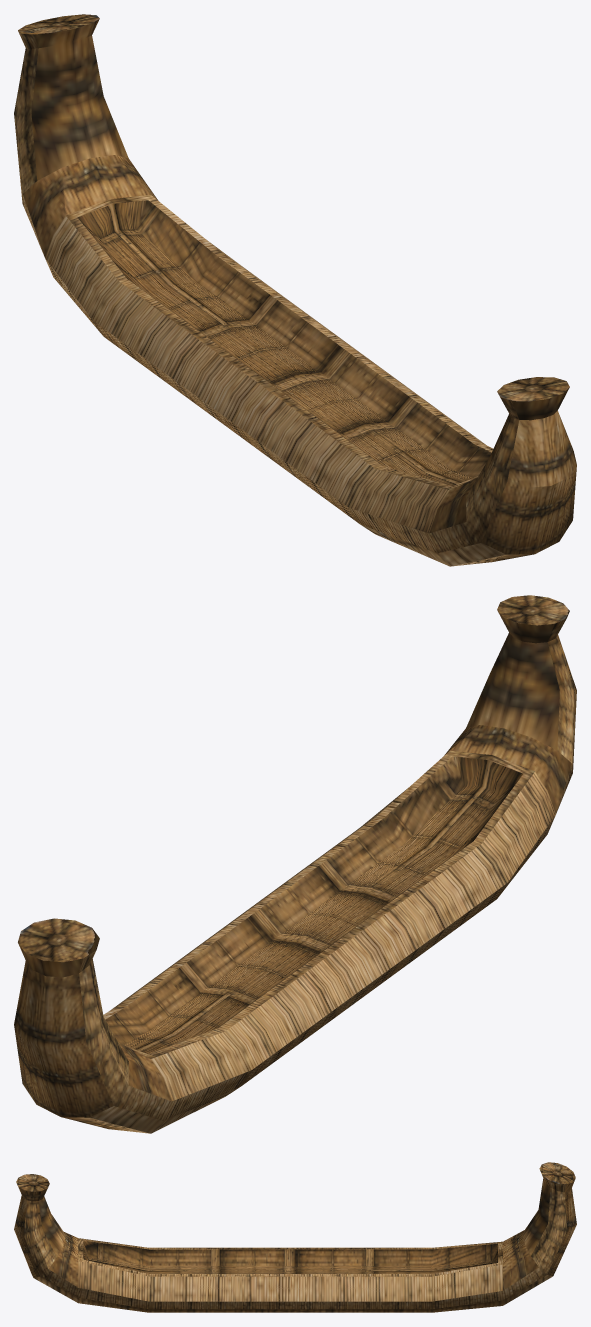
The model's file is ship_scout.dae.
3 renders of one model, top to bottom at view 1: azimuth 30°, elevation 25°; view 2: azimuth 150°, elevation 25°; view 3: azimuth 270°, elevation 25°, orthographic. The views are drawn at different scales.
Visible parts, largest first — view 1: balsa; view 2: balsa; view 3: balsa.
Part boxes in pixels (x1=…): balsa: x1=14, y1=14, x2=576, y2=566; balsa: x1=14, y1=595, x2=576, y2=1133; balsa: x1=14, y1=1162, x2=576, y2=1312.
Size of the model in its own units: 2.25 by 12.53 by 3.25.
1 material, 1 textured.
